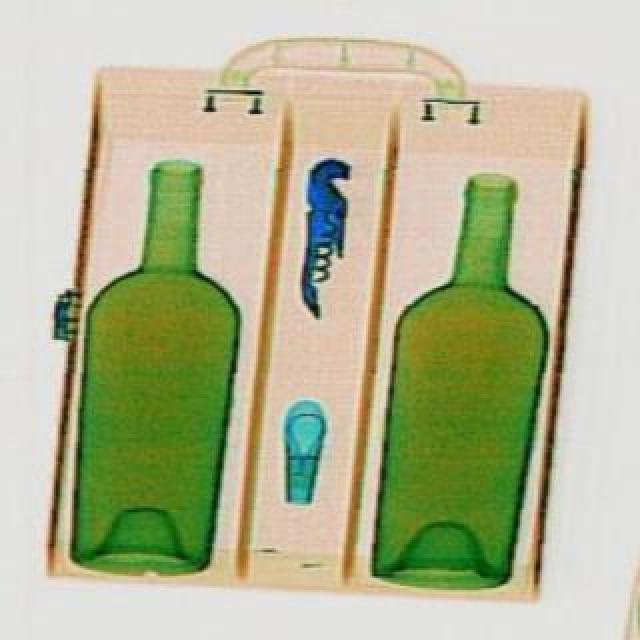knife: (290, 154, 352, 322)
